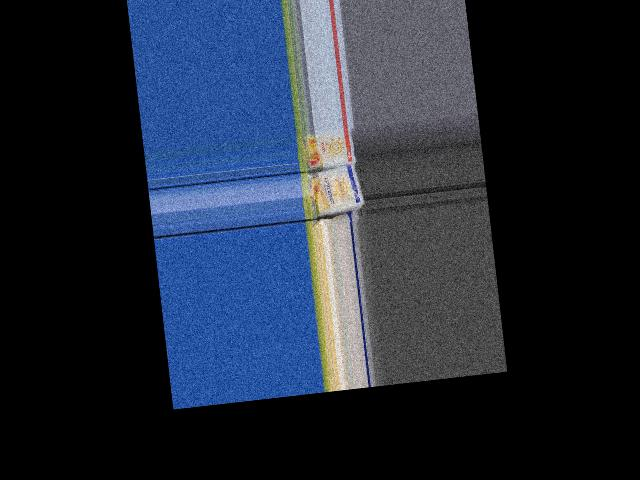cheese: (295, 125, 359, 170)
